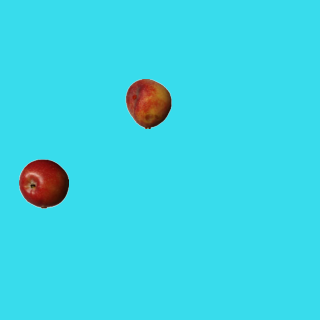Apple Braeburn: (18, 158, 68, 208)
Peach: (123, 78, 173, 128)
